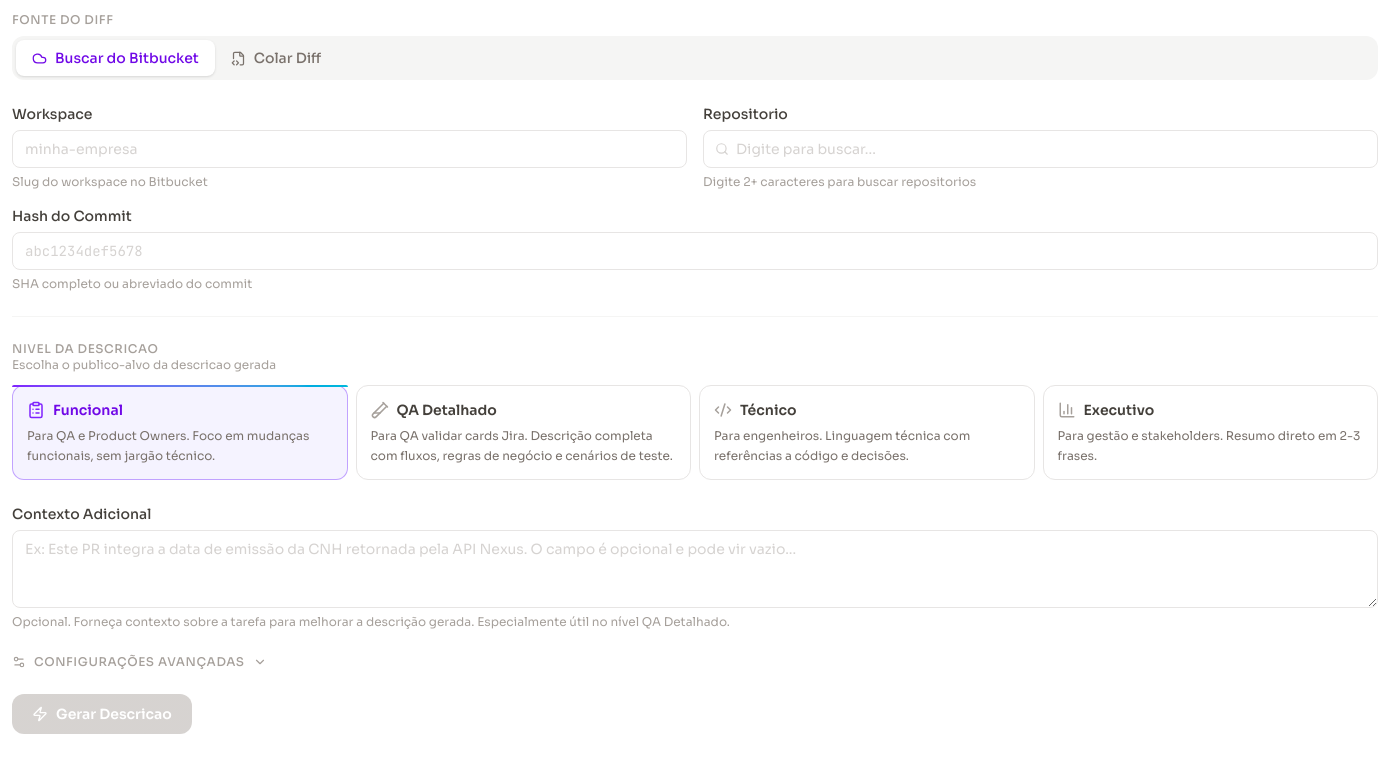
Test: CommitForm › enables submit button when raw diff is filled in manual mode
The width and height of the screenshot is (1390, 780).
Step 1. Click the button "Colar Diff" → (276, 58), box x1=215 y1=40 x2=337 y2=76
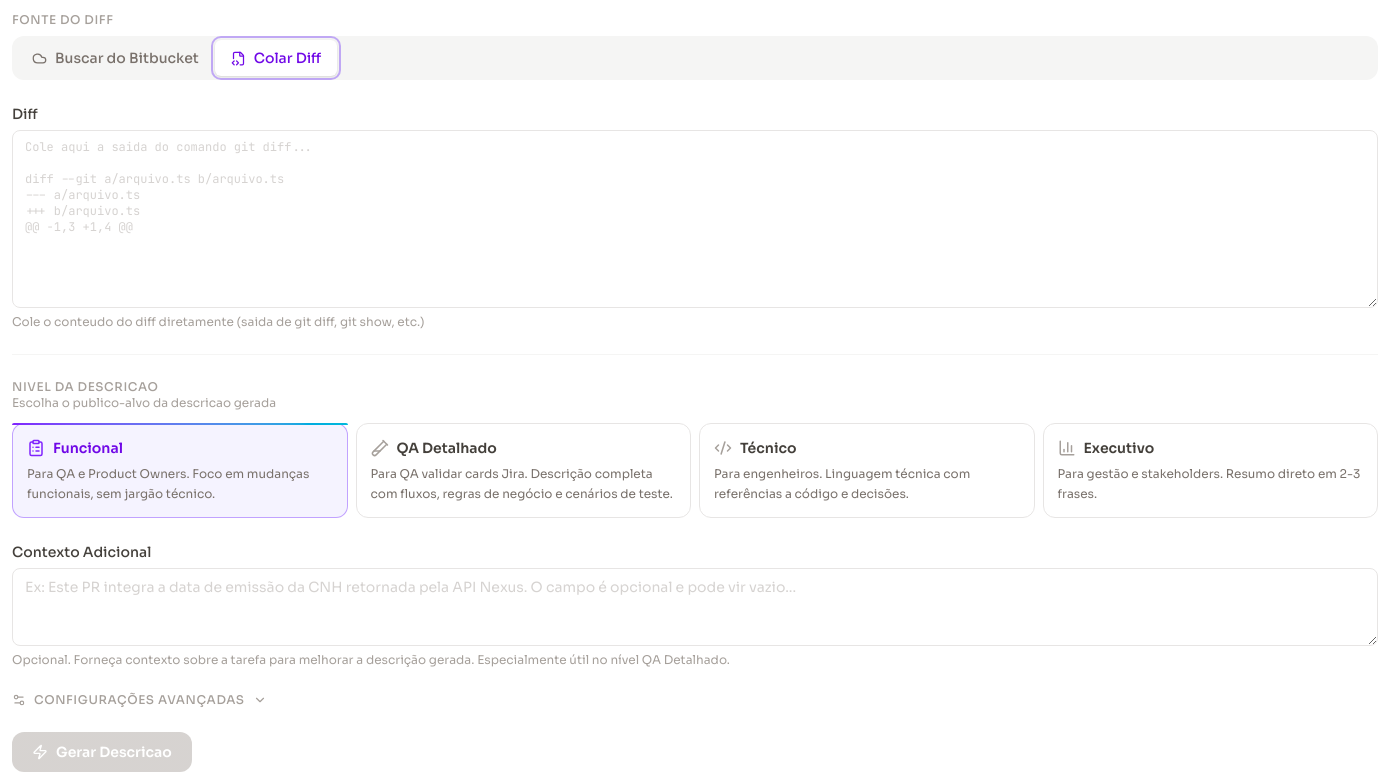
Step 2. Type "diff --git a/main.go" into the text box labelled "Diff" → (695, 219), box x1=12 y1=130 x2=1378 y2=308
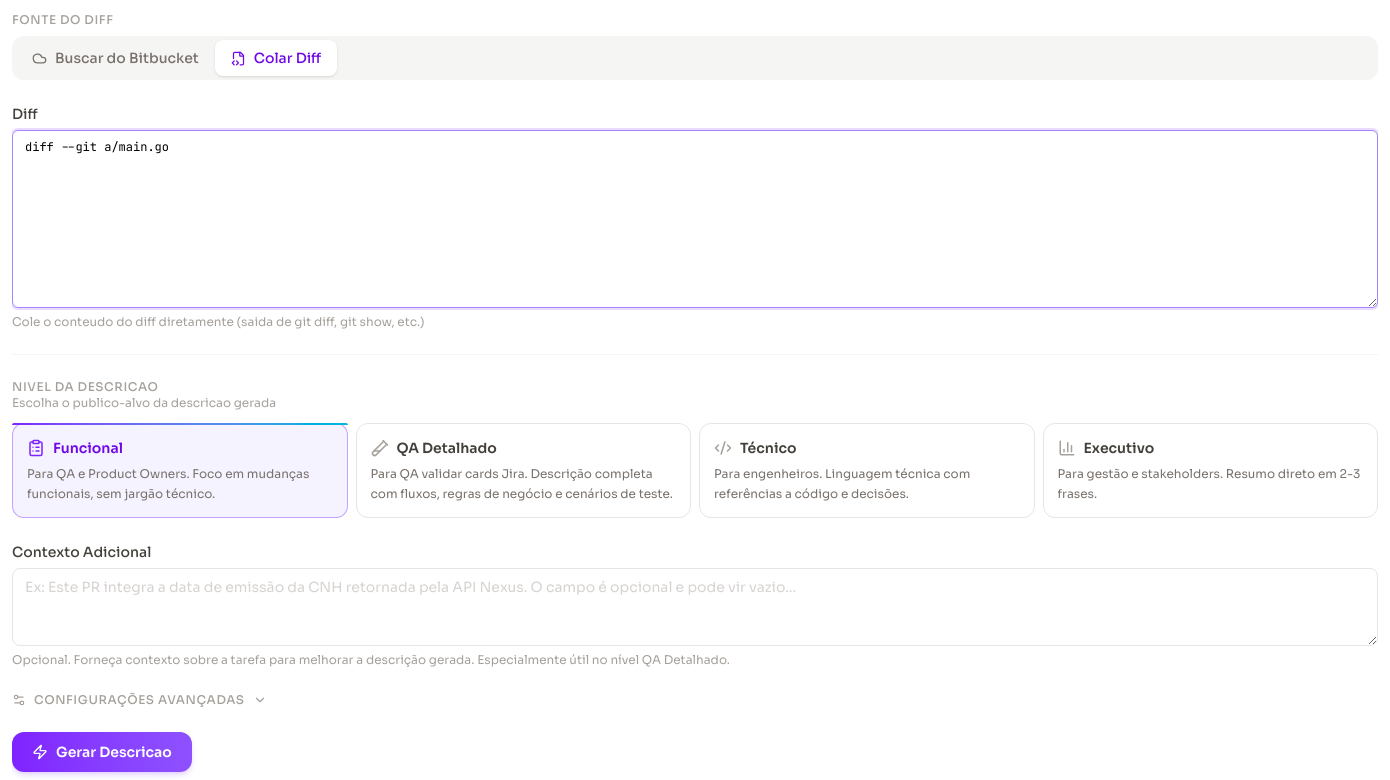
Expected: the button "Gerar Descricao" is enabled, x1=12 y1=732 x2=192 y2=772
